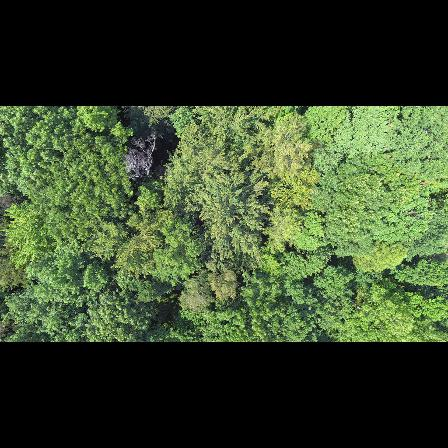Dead: (120, 131, 159, 182)
